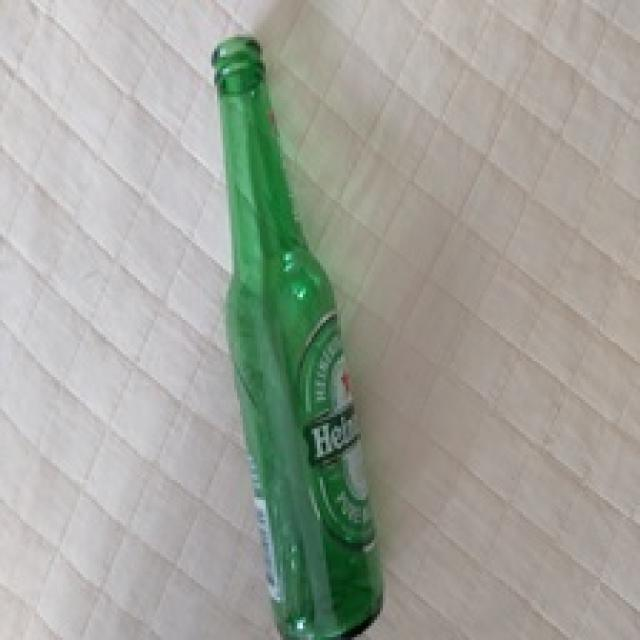Glass: (210, 35, 384, 640)
